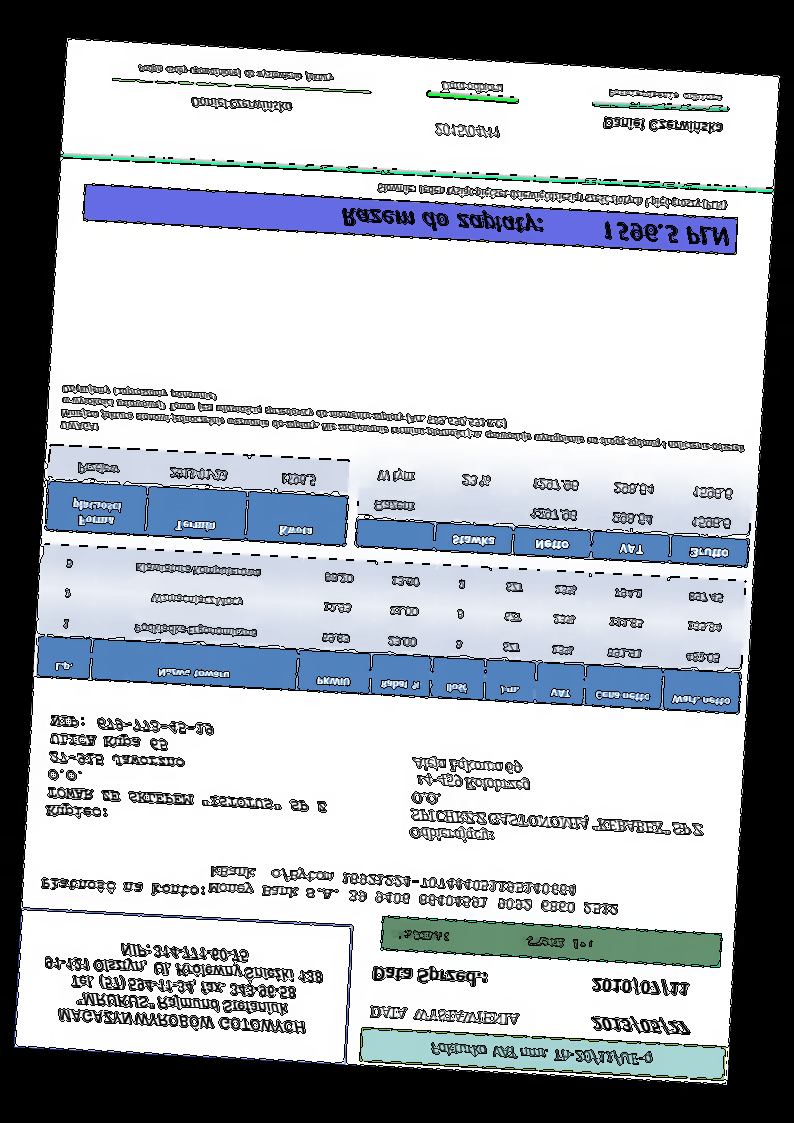Table: (34, 539, 751, 716), (354, 452, 754, 570), (44, 443, 352, 549)
TextBox: (55, 378, 748, 468), (42, 712, 334, 832), (406, 753, 709, 857), (37, 934, 331, 1038), (207, 864, 622, 918), (335, 202, 733, 251), (373, 180, 730, 215), (426, 1037, 656, 1069), (389, 926, 597, 955), (135, 60, 336, 86), (367, 1000, 526, 1031), (36, 875, 210, 902), (369, 963, 490, 990), (600, 112, 725, 137), (584, 1013, 693, 1039), (588, 973, 692, 1000), (603, 87, 725, 106), (187, 96, 294, 116), (431, 122, 501, 141), (439, 80, 506, 95)
